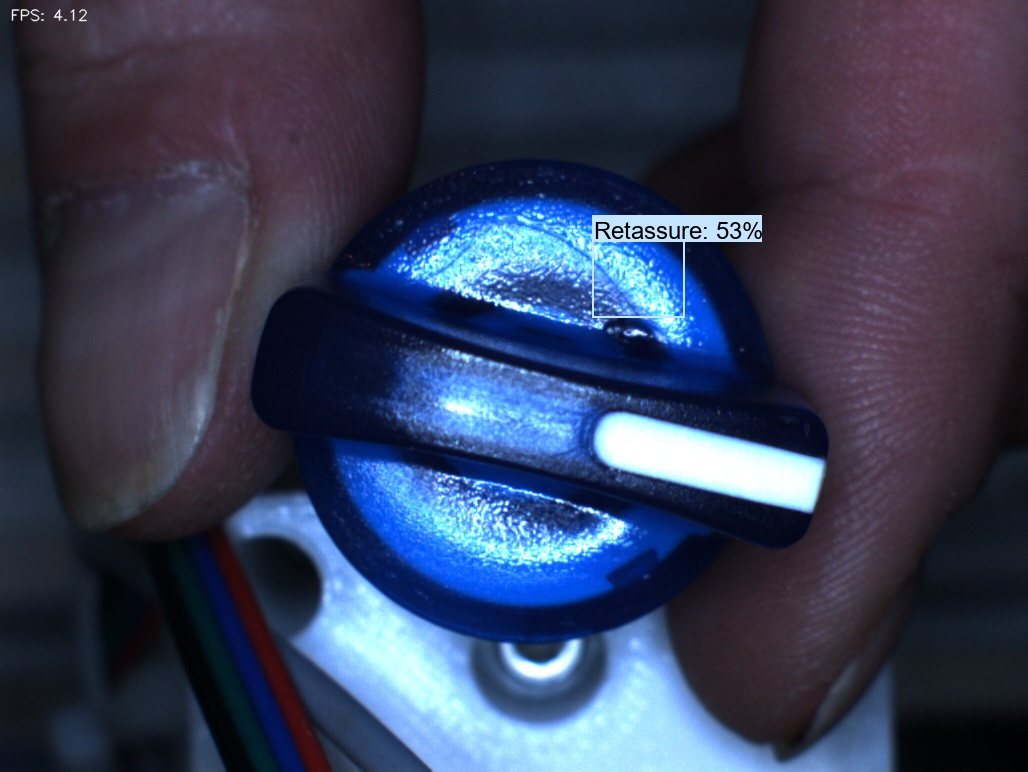Choc: (585, 291, 666, 372)
